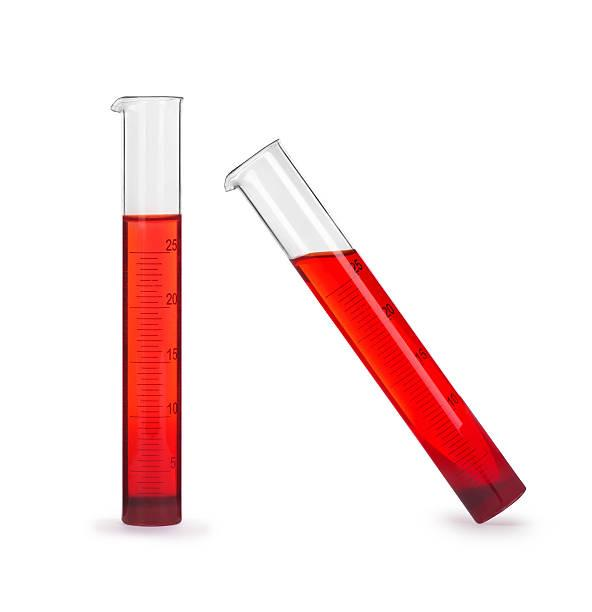Test tube: (219, 130, 537, 520), (103, 85, 188, 532)
